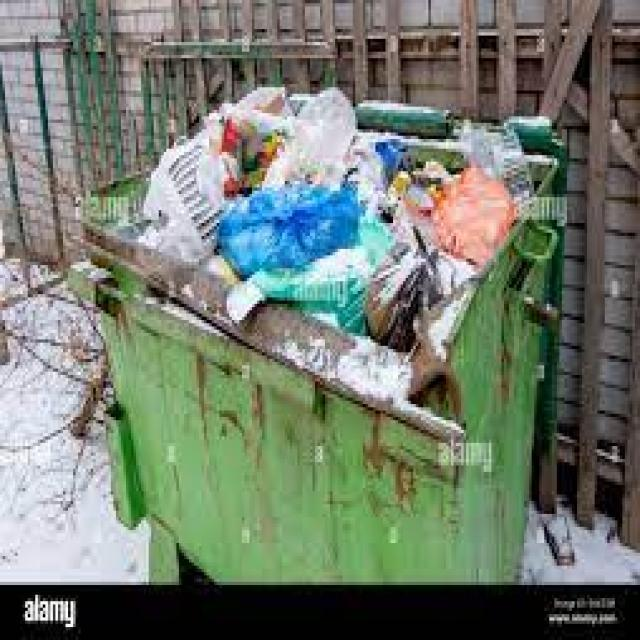Garbage: (141, 88, 561, 349)
Plastic_Bag: (218, 184, 362, 277)
